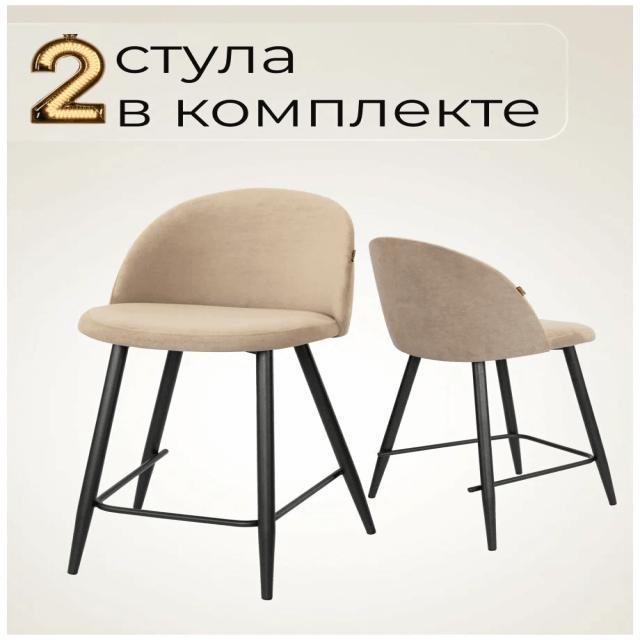chair: (66, 181, 381, 598), (360, 232, 623, 553), (82, 180, 358, 342), (366, 236, 609, 360)
